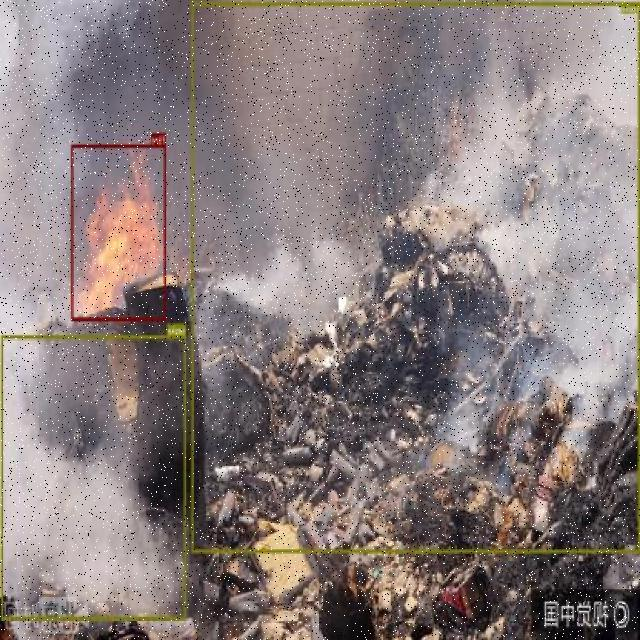smoke: (192, 1, 640, 552), (2, 334, 186, 620)
